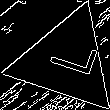L_W: (36, 38, 96, 84)
